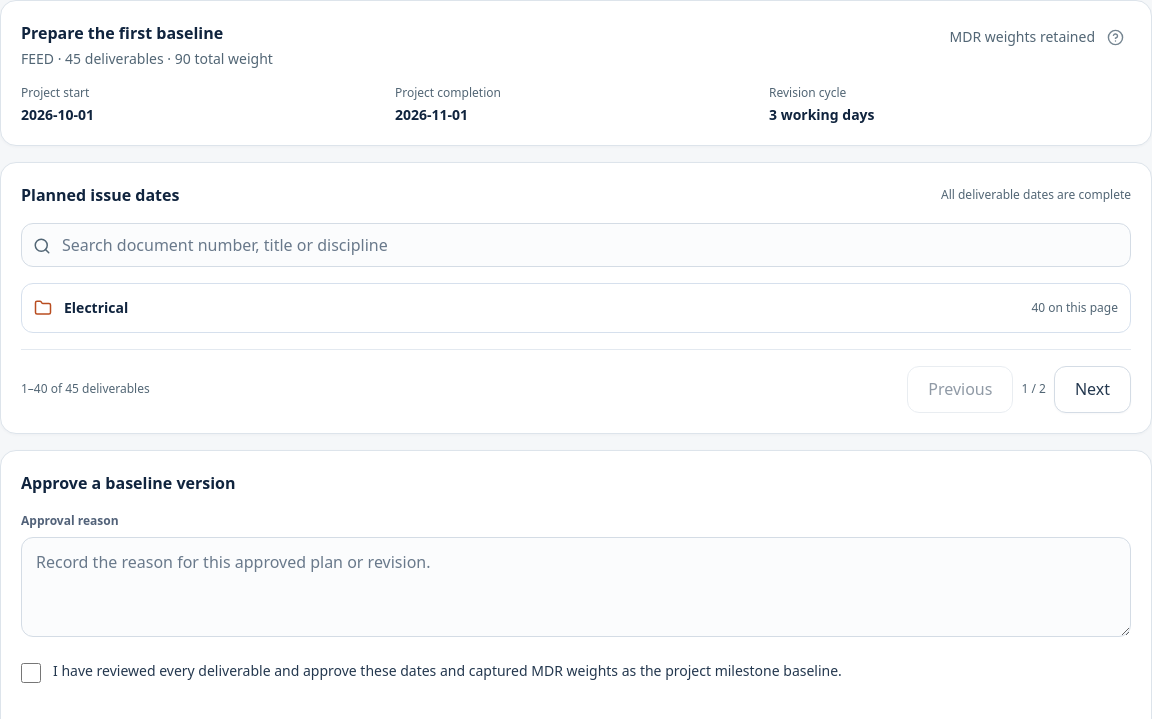
weighted milestone baseline editor › serialises all deliverables, never just filtered or paginated rows
Expected: the text "1–40 of 45 deliverables" is shown, [21, 381, 150, 397]
Click the button "Next": (1092, 389) [1054, 366, 1131, 413]
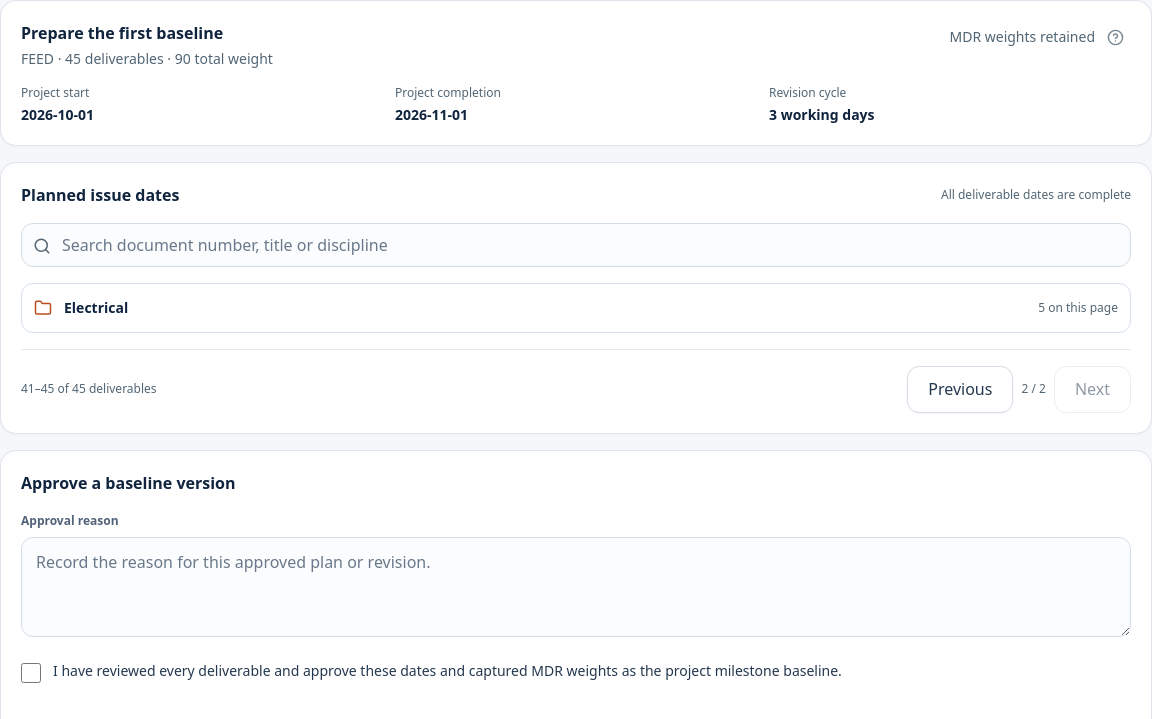
Now the text "41–45 of 45 deliverables" is shown, box [21, 381, 157, 397]
In the search field named "Search baseline deliverables": (576, 245) [21, 223, 1131, 267], type "DOC-045"
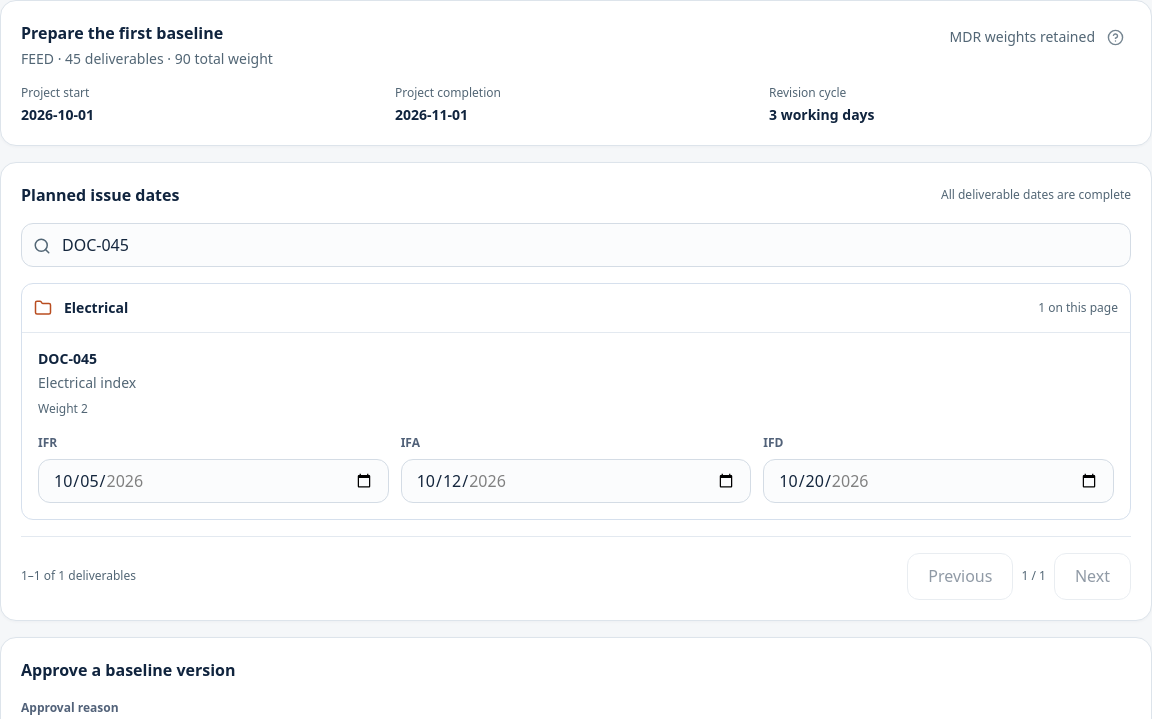
Now the text "1–1 of 1 deliverables" is shown, box [21, 568, 136, 584]
